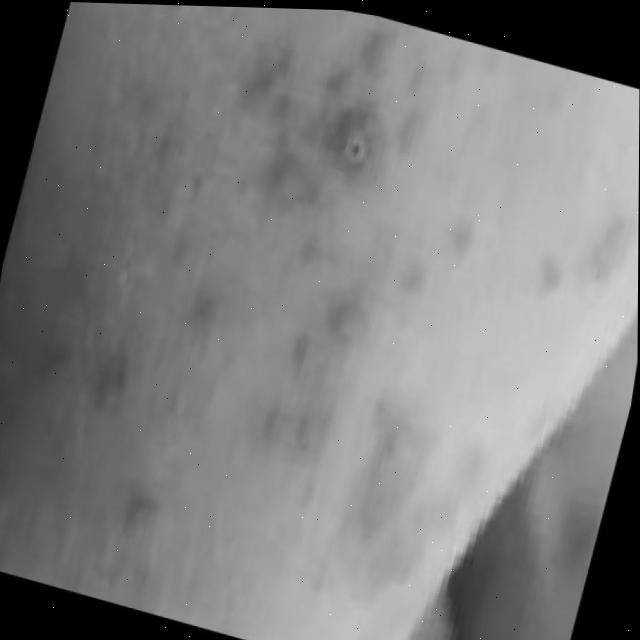Eczema: (112, 9, 517, 607)
